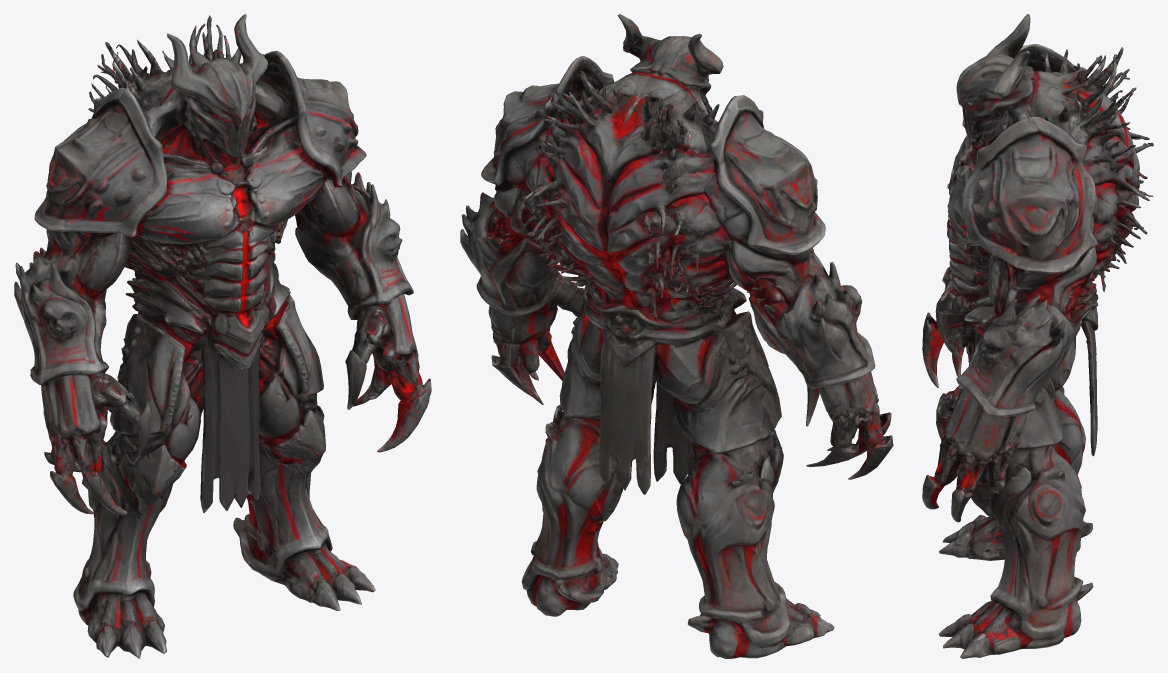
The model's file is rhaum__the_hellforged_colossus.glb.
3 views of the same model, side by side, from view 1: azimuth 30°, elevation 25°; view 2: azimuth 150°, elevation 25°; view 3: azimuth 270°, elevation 25° (orthographic). The views are drawn at different scales.
Parts seen in each view (by area): view 1: rhaum__the_hellforged_colossus; view 2: rhaum__the_hellforged_colossus; view 3: rhaum__the_hellforged_colossus.
Boxes of the visible parts, x1,y1,x2,y2 form: rhaum__the_hellforged_colossus: (14,14,431,658); rhaum__the_hellforged_colossus: (460,14,893,658); rhaum__the_hellforged_colossus: (922,14,1153,658).
Size of the model in its own units: 4.82 by 7 by 2.61.
1 material, 1 textured.
